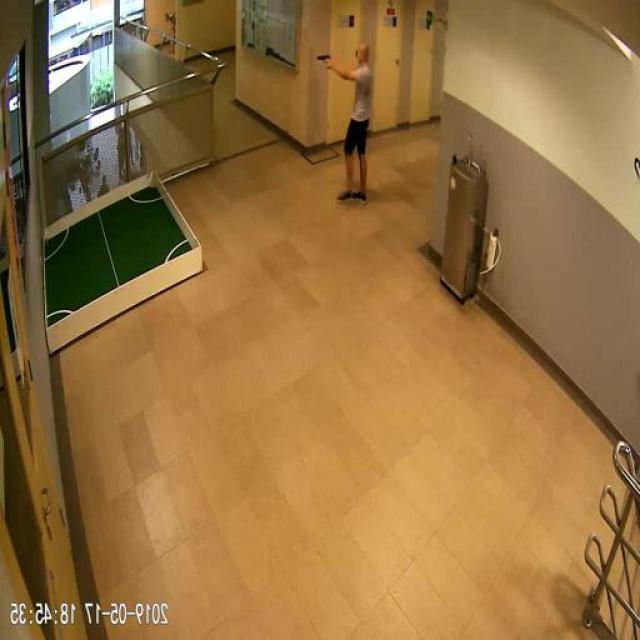Gun: (318, 52, 332, 68)
